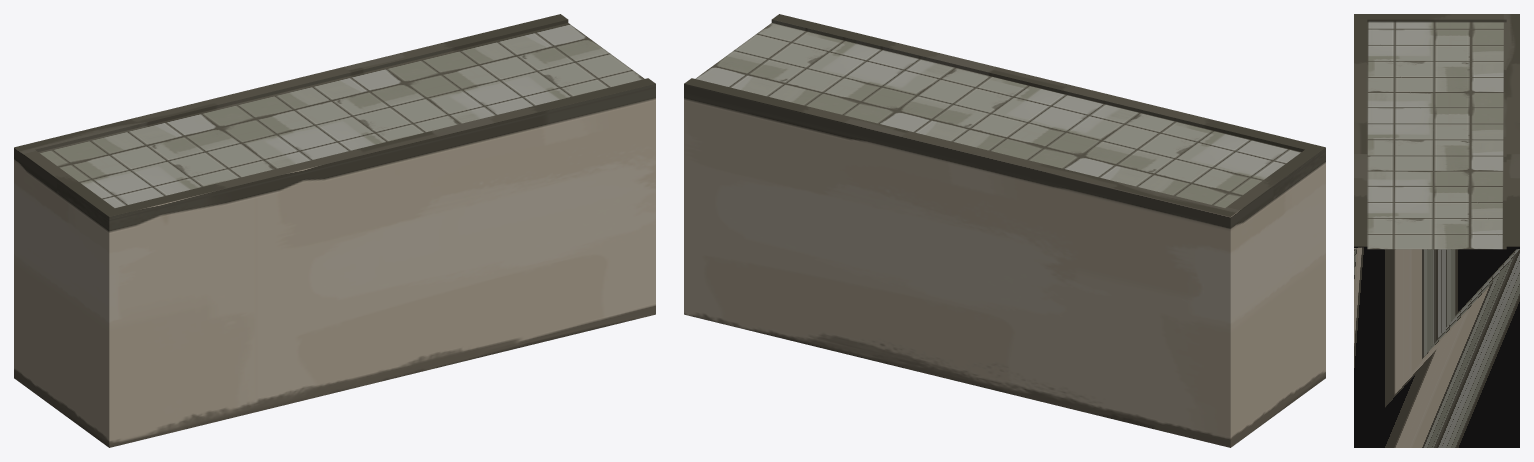
File: Cube11Extend.FBX
The picture shows the model from 3 angles, left to right: view 1: azimuth 30°, elevation 25°; view 2: azimuth 150°, elevation 25°; view 3: azimuth 270°, elevation 25°; orthographic projection. The views are drawn at different scales.
Parts seen in each view (by area): view 1: Cube 11 Extension; view 2: Cube 11 Extension; view 3: Cube 11 Extension.
Part boxes in pixels (x1=…): Cube 11 Extension: x1=14, y1=14, x2=655, y2=447; Cube 11 Extension: x1=684, y1=14, x2=1325, y2=447; Cube 11 Extension: x1=1354, y1=14, x2=1519, y2=447.
Bounding box in the file's own units: 17.55 × 7.09 × 5.29.
